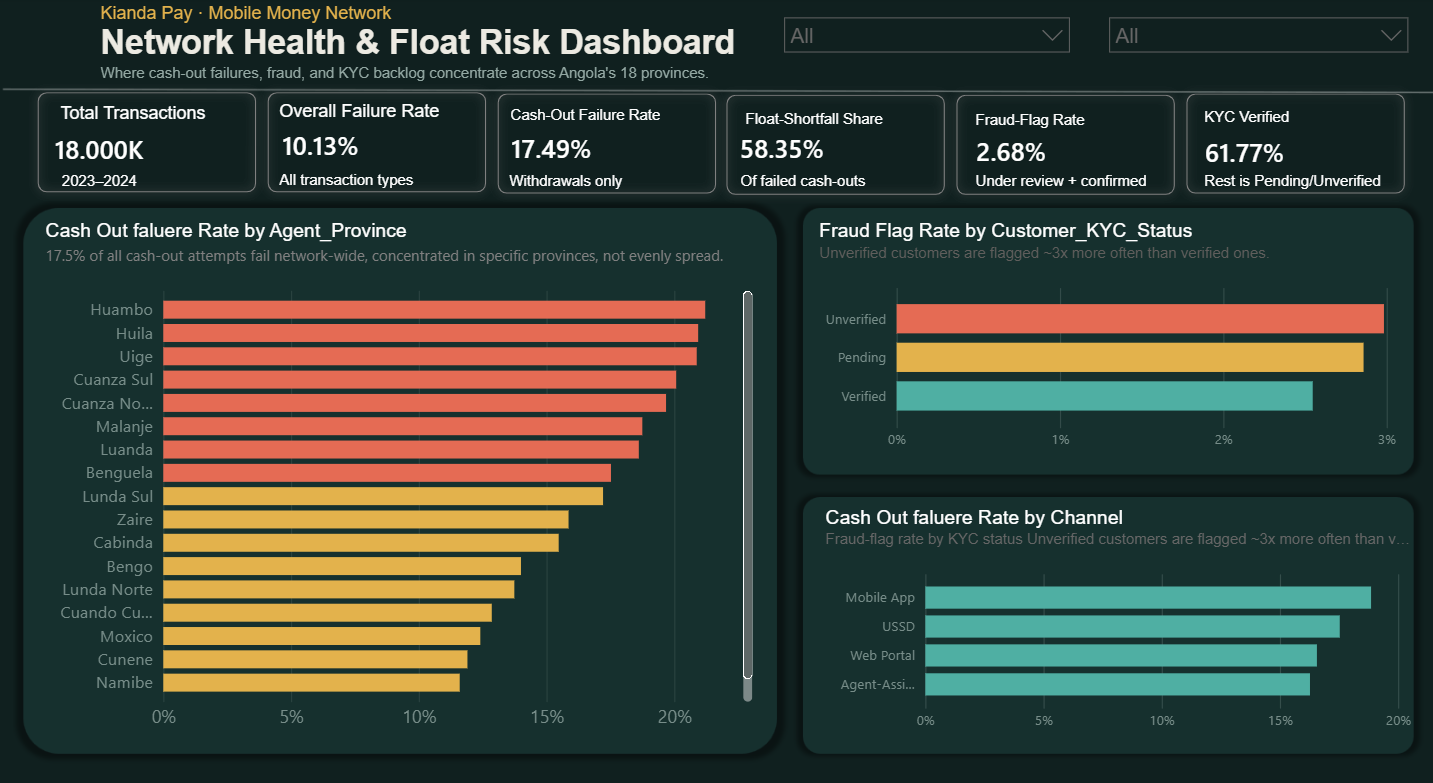

The dashboard page shown, as its layout file describes it:
{"tool":"powerbi","page":{"name":"Dashboard","canvas":[1280,720],"ordinal":0},"visuals":[{"type":"group","id":"g1","title":"Group 1","box":[27.8,80.1,1233.4,118],"z":0},{"type":"shape","box":[27.8,80.6,210.4,105.1],"z":0,"group":"g1"},{"type":"barChart","fields":{"Y":["Metrics.Cash Out faluere Rate"],"Category":["dAgent.Agent_Province"]},"box":[39.3,197.7,639.5,464],"z":0,"group":"g2"},{"type":"group","id":"g2","title":"Group 3","box":[20,0,1243.4,662.2],"z":1000},{"type":"shape","box":[232.4,80.1,210.4,105.1],"z":1000,"group":"g1"},{"type":"barChart","fields":{"Y":["Metrics.Fraud Flag Rate"],"Category":["dCustumer.Customer_KYC_Status"]},"box":[727.7,197.7,534.9,220.9],"z":1000,"group":"g2"},{"type":"slicer","title":"CHOOSE PROVINCE ","fields":{"Values":["dAgent.Agent_Province"]},"box":[687.5,8.2,274.4,57.6],"z":2000},{"type":"shape","box":[437.1,81,210.4,105.1],"z":2000,"group":"g1"},{"type":"barChart","fields":{"Y":["Metrics.Cash Out faluere Rate"],"Category":["dCustumer.Channel"]},"box":[730,453.5,532,208.7],"z":2000,"group":"g2"},{"type":"slicer","fields":{"Values":["fTransation.Year"]},"box":[977,11,286.8,45.3],"z":3000},{"type":"shape","box":[641.7,82,210.4,105.1],"z":3000,"group":"g1"},{"type":"shape","box":[846.3,82.5,210.4,105.1],"z":4000,"group":"g1"},{"type":"group","id":"g3","title":"Group 2","box":[20,87.9,1243.4,146],"z":4000,"group":"g2"},{"type":"cardVisual","fields":{"Data":["Metrics.Totat de Transacoes"]},"box":[20,99.1,185.9,68.6],"z":4000,"group":"g3"},{"type":"textbox","box":[84.5,0,650.1,111.3],"z":5000,"group":"g2"},{"type":"shape","box":[1051,81.5,210.4,105.1],"z":5000,"group":"g1"},{"type":"textbox","box":[49,88.8,173.5,44.2],"z":5000,"group":"g3"},{"type":"cardVisual","fields":{"Data":["Metrics.Overal Failure Rate"]},"box":[222.2,94.1,151.1,72.4],"z":6000,"group":"g3"},{"type":"textbox","box":[244.3,87.9,166.2,34.9],"z":7000,"group":"g3"},{"type":"textbox","box":[50.2,149.1,125.5,34.9],"z":8000,"group":"g3"},{"type":"textbox","box":[244.3,147.8,195.2,86.1],"z":9000,"group":"g3"},{"type":"cardVisual","fields":{"Data":["Metrics.Cash Out faluere Rate"]},"box":[426.7,102.9,158,61.2],"z":10000,"group":"g3"},{"type":"textbox","box":[450.1,90.2,196.4,34.9],"z":11000,"group":"g3"},{"type":"textbox","box":[448.8,149.1,196.4,34.9],"z":12000,"group":"g3"},{"type":"cardVisual","fields":{"Data":["Metrics.Float Shortfall Share"]},"box":[630.1,101.6,138.3,64.9],"z":13000,"group":"g3"},{"type":"textbox","box":[658.4,93.2,197,36.7],"z":14000,"group":"g3"},{"type":"textbox","box":[654.5,149.1,196.4,34.9],"z":15000,"group":"g3"},{"type":"cardVisual","fields":{"Data":["Metrics.Fraud Flag Rate"]},"box":[840.4,104.1,130.2,62.4],"z":16000,"group":"g3"},{"type":"textbox","box":[863.7,94.1,196.4,36.2],"z":17000,"group":"g3"},{"type":"textbox","box":[863.7,149.1,196.4,34.9],"z":18000,"group":"g3"},{"type":"cardVisual","fields":{"Data":["Metrics.% KYC"]},"box":[1043.8,105.4,180.1,62.4],"z":19000,"group":"g3"},{"type":"textbox","box":[1067,92.9,196.4,34.9],"z":20000,"group":"g3"},{"type":"textbox","box":[1067,149.1,196.4,34.9],"z":21000,"group":"g3"}]}

Visuals, with their boxes in screenshot pixels (x1, y1, x2, y2), scaled from the page's 1280x720 canvas onto the 1433x783 screenshot:
"Group 1" group: 31, 87, 1412, 215
shape: 31, 88, 267, 202
barChart - Metrics.Cash Out faluere Rate x dAgent.Agent_Province: 44, 215, 760, 720
"Group 3" group: 22, 0, 1414, 720
shape: 260, 87, 496, 201
barChart - Metrics.Fraud Flag Rate x dCustumer.Customer_KYC_Status: 815, 215, 1414, 455
"CHOOSE PROVINCE " slicer: 770, 9, 1077, 72
shape: 489, 88, 725, 202
barChart - Metrics.Cash Out faluere Rate x dCustumer.Channel: 817, 493, 1413, 720
slicer - fTransation.Year: 1094, 12, 1415, 61
shape: 718, 89, 954, 203
shape: 947, 90, 1183, 204
"Group 2" group: 22, 96, 1414, 254
cardVisual - Metrics.Totat de Transacoes: 22, 108, 231, 182
textbox: 95, 0, 822, 121
shape: 1177, 89, 1412, 203
textbox: 55, 97, 249, 145
cardVisual - Metrics.Overal Failure Rate: 249, 102, 418, 181
textbox: 274, 96, 460, 134
textbox: 56, 162, 197, 200
textbox: 274, 161, 492, 254
cardVisual - Metrics.Cash Out faluere Rate: 478, 112, 655, 178
textbox: 504, 98, 724, 136
textbox: 502, 162, 722, 200
cardVisual - Metrics.Float Shortfall Share: 705, 110, 860, 181
textbox: 737, 101, 958, 141
textbox: 733, 162, 953, 200
cardVisual - Metrics.Fraud Flag Rate: 941, 113, 1087, 181
textbox: 967, 102, 1187, 142
textbox: 967, 162, 1187, 200
cardVisual - Metrics.% KYC: 1169, 115, 1370, 182
textbox: 1195, 101, 1414, 139
textbox: 1195, 162, 1414, 200
